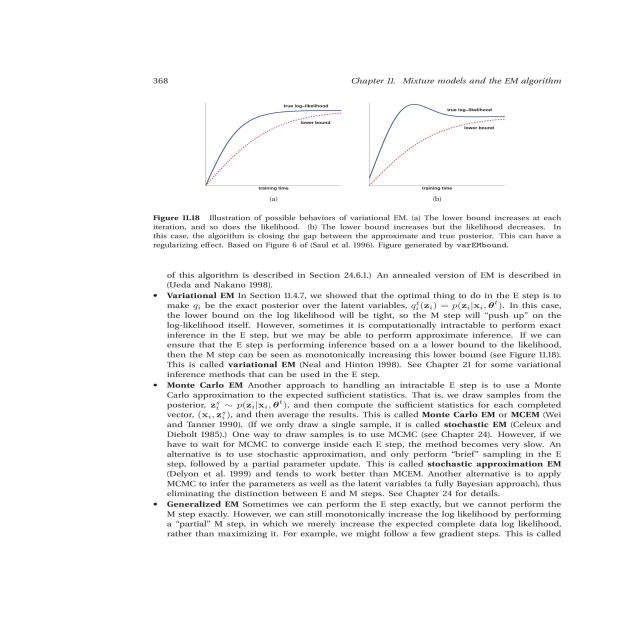diagram: (134, 89, 640, 256)
